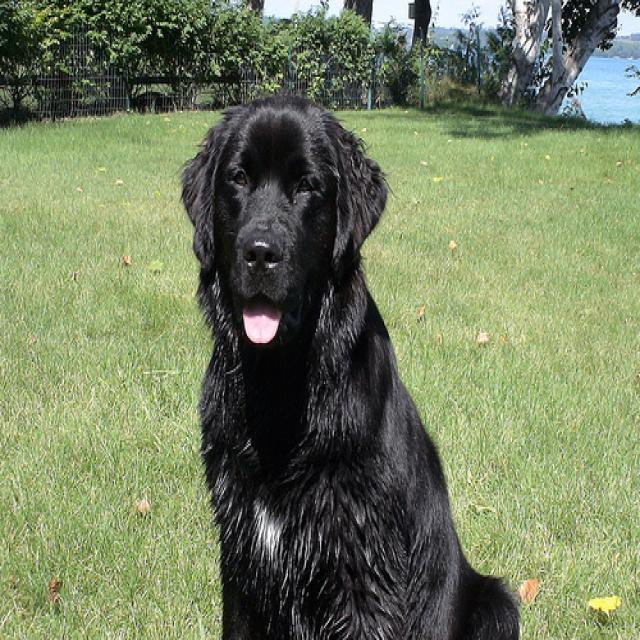dog-newfoundland: (170, 90, 532, 637)
